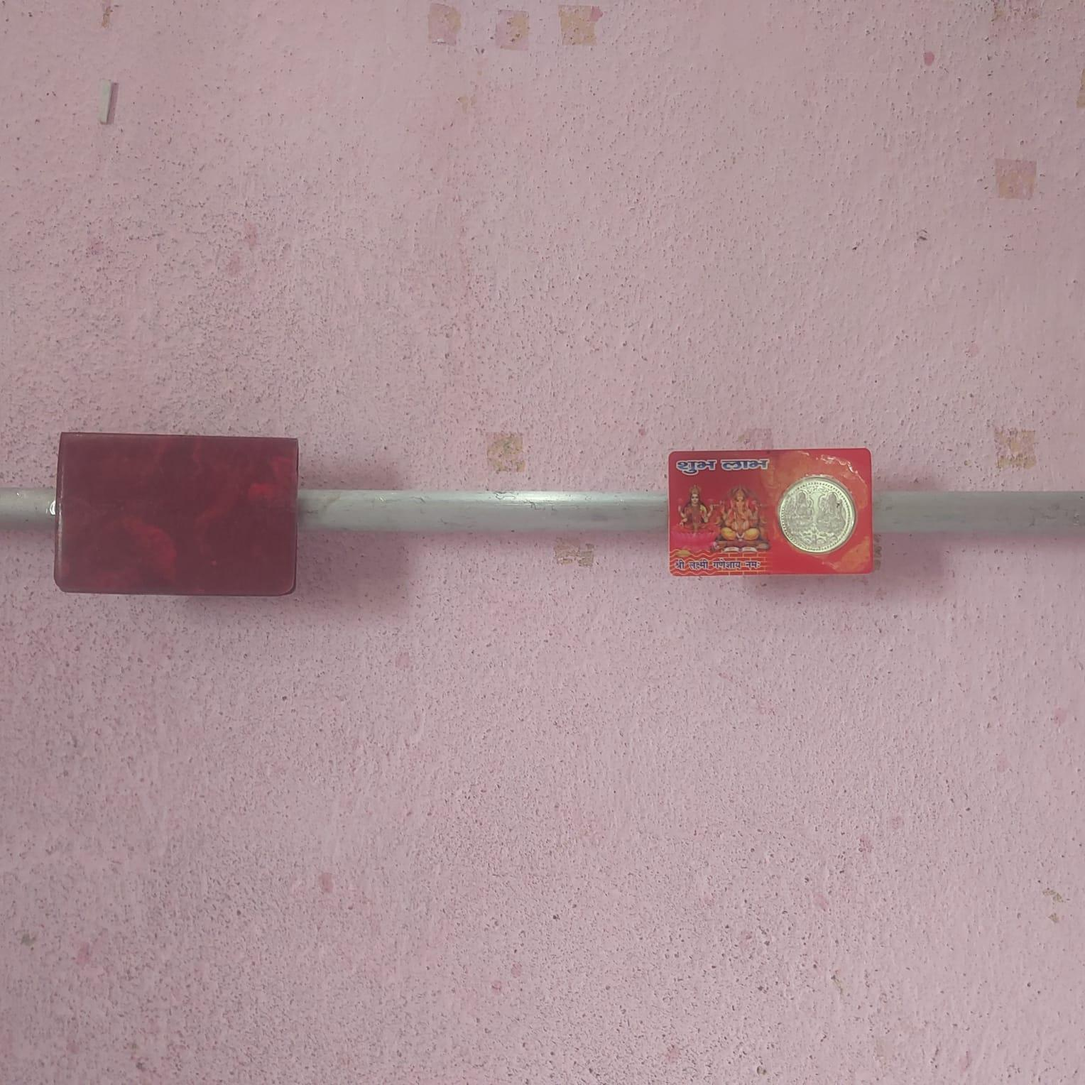blessing_card: (667, 448, 883, 573)
wallet: (53, 431, 301, 595)
